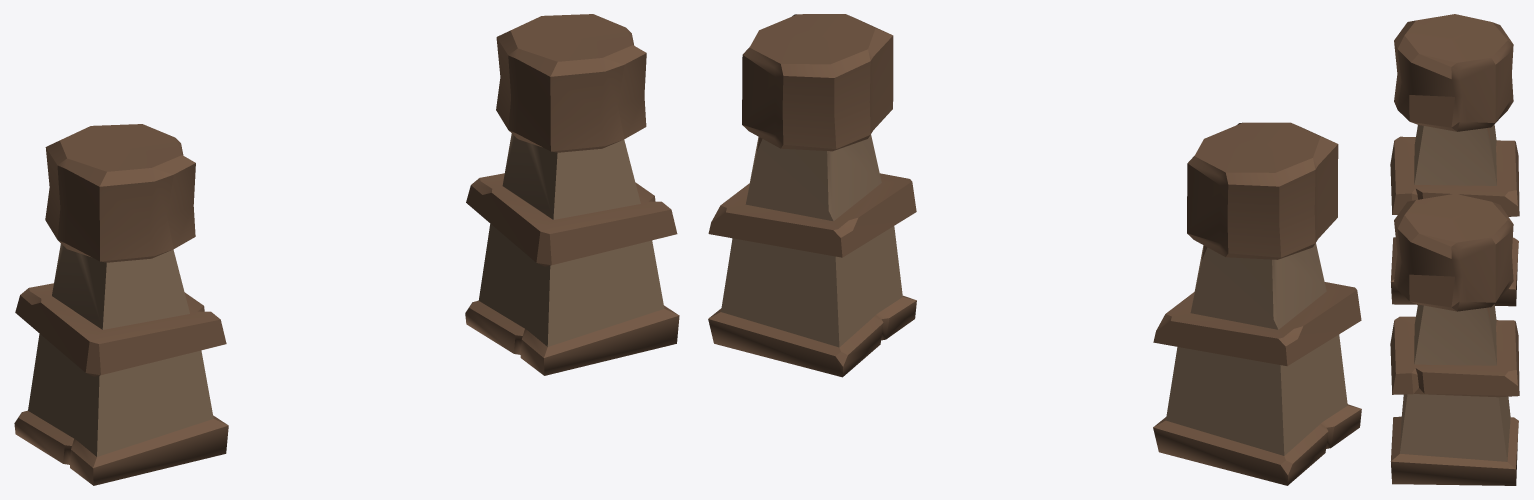
Rendered from Postway.fbx.
3 views of the same model, side by side, from view 1: azimuth 30°, elevation 25°; view 2: azimuth 150°, elevation 25°; view 3: azimuth 270°, elevation 25° (orthographic). The views are drawn at different scales.
Parts seen in each view (by area): view 1: Wall_03_Center, Wall_03_Center.001; view 2: Wall_03_Center.001, Wall_03_Center; view 3: Wall_03_Center.001, Wall_03_Center.
Boxes of the visible parts, x1,y1,x2,y2 form: Wall_03_Center: (14, 124, 228, 485); Wall_03_Center.001: (465, 14, 679, 375); Wall_03_Center.001: (708, 14, 916, 377); Wall_03_Center: (1153, 122, 1361, 485); Wall_03_Center.001: (1390, 193, 1519, 485); Wall_03_Center: (1390, 14, 1519, 306).
Bounding box in the file's own units: 1.13 × 0.5499 × 0.2617.
